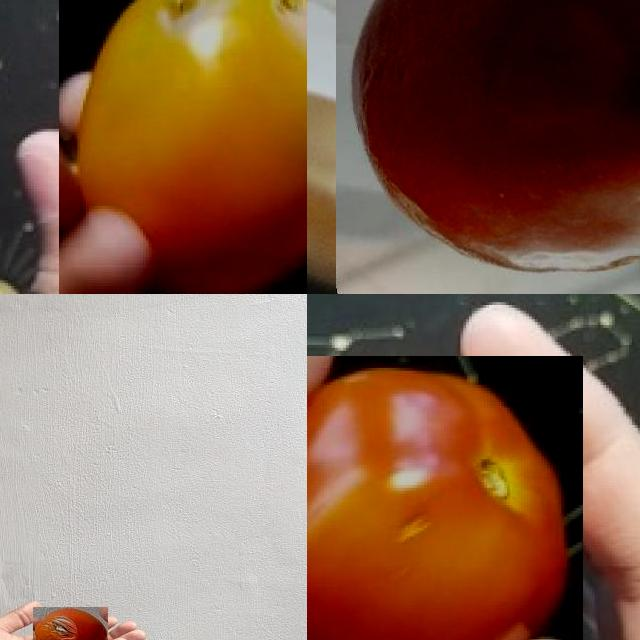1: (336, 0, 640, 294)
Fresh Tomato: (307, 356, 583, 640)
Rotten Tomato: (59, 0, 307, 294), (33, 607, 108, 640)
